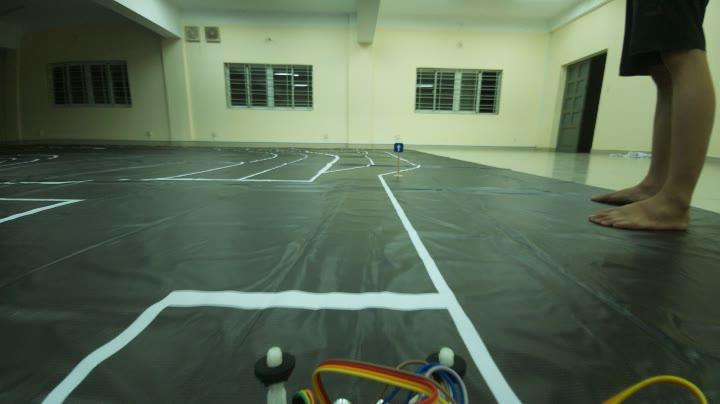onewayroad: (390, 138, 408, 152)
